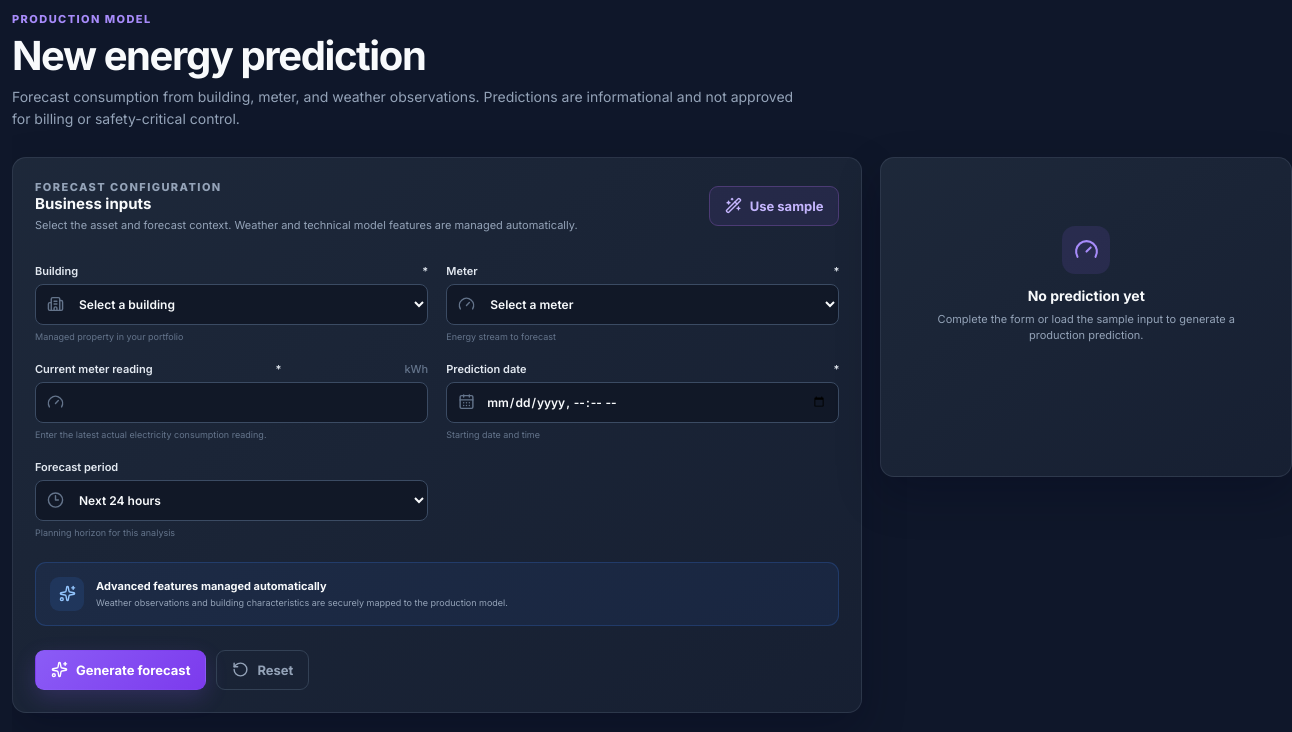
Test: PredictionPage › loads the business sample and resets it
Click the button "Use sample" at (774, 206), box [709,186,840,226]
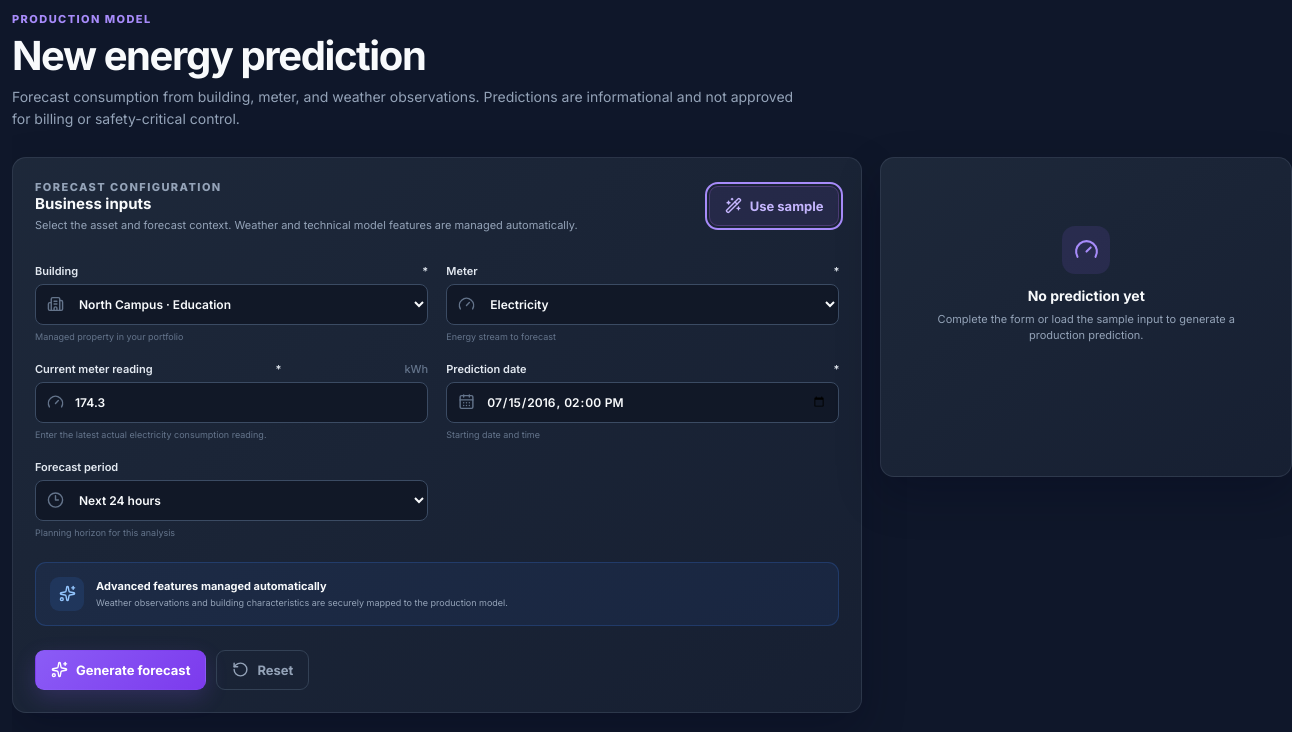
Check: the dropdown labelled "Building * Managed property in your portfolio" shows "North Campus · Education", box [35,284,428,325]
Check: the dropdown labelled "Meter * Energy stream to forecast" shows "Electricity", box [446,284,839,325]
Check: the number field labelled "Current meter reading" holds "174.3", box [35,382,428,423]
Click the button "Reset" at (263, 670), box [216,650,309,690]
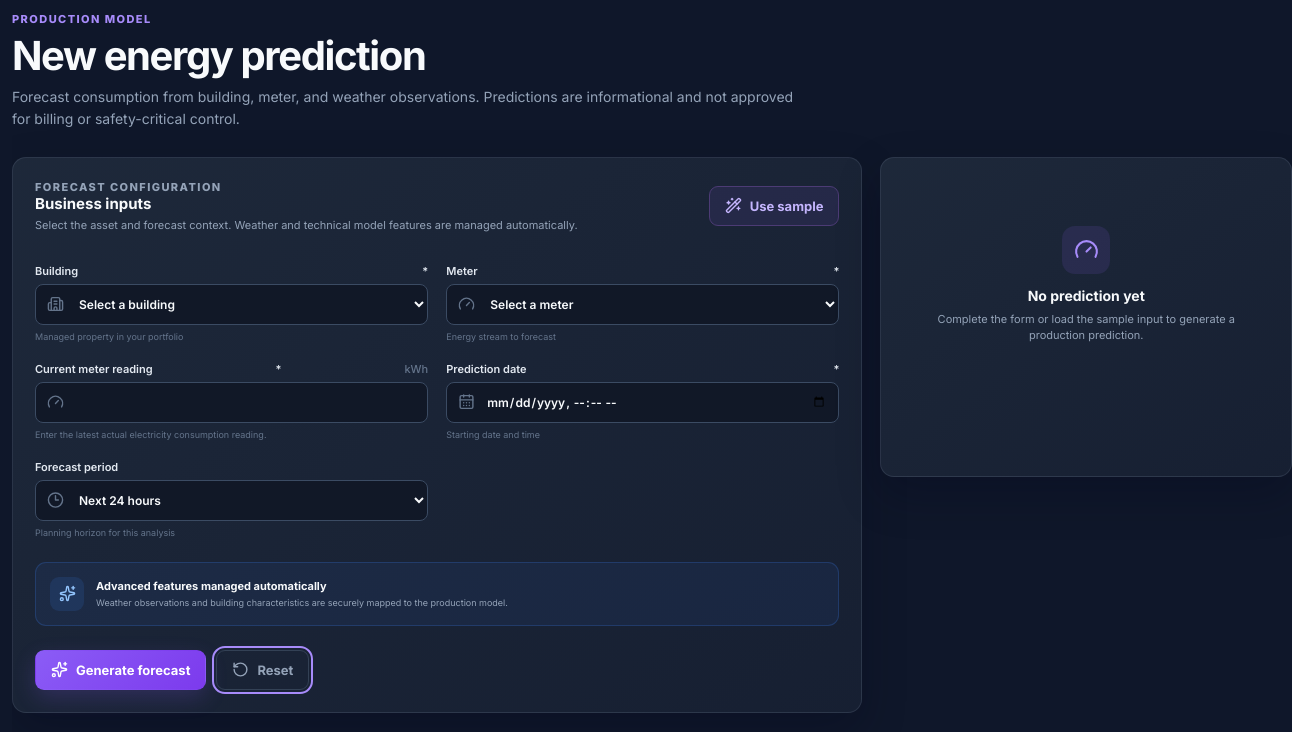
Check: the dropdown labelled "Building * Managed property in your portfolio" shows "Select a building", box [35,284,428,325]
